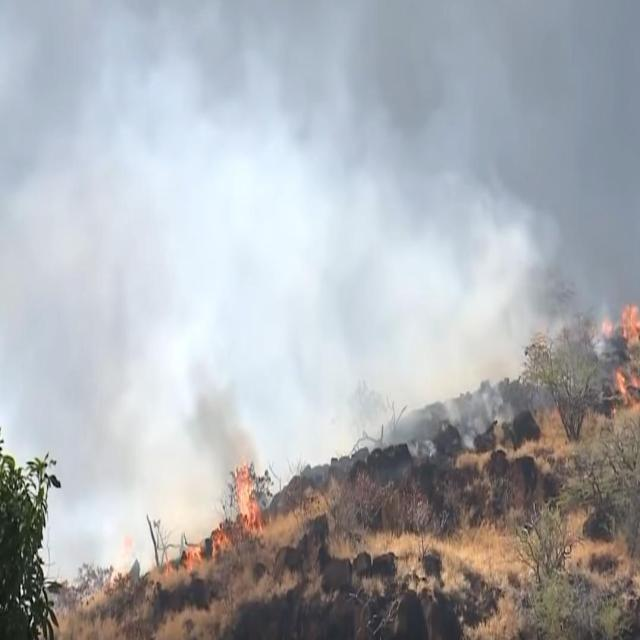Fire: (230, 462, 262, 538), (615, 370, 636, 410), (620, 301, 638, 343), (182, 542, 204, 568), (210, 528, 228, 554)
Smoke: (2, 0, 640, 303), (3, 306, 550, 462), (52, 468, 180, 560)
